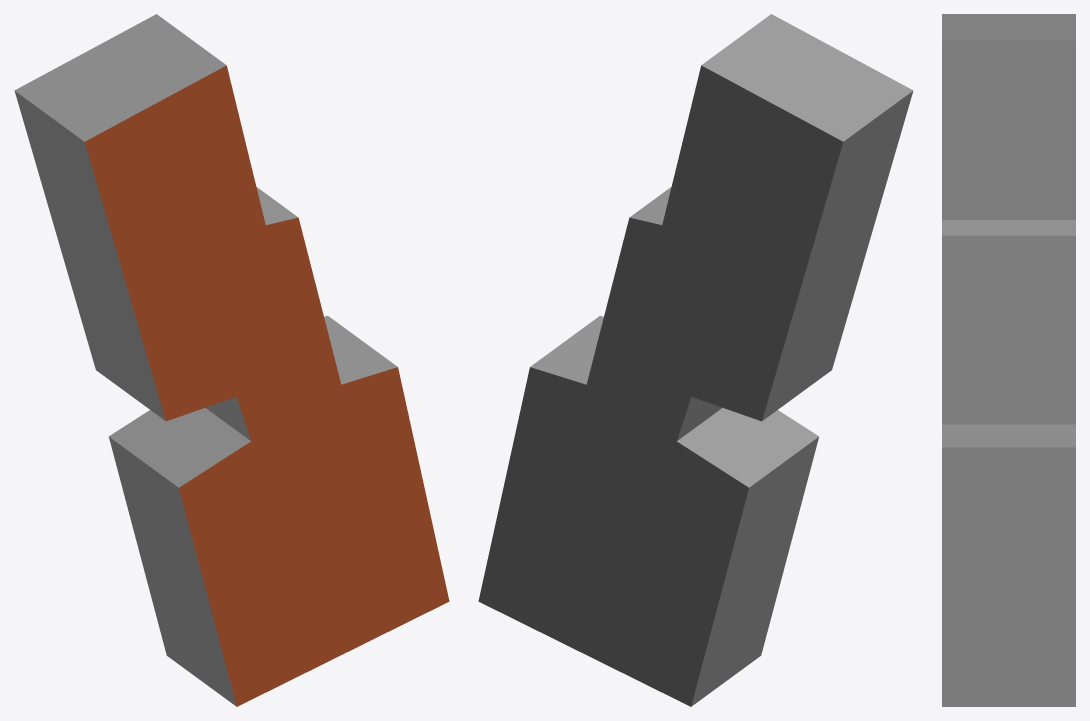
The model's file is construction_0563_assumed_A_Casa_h6m.obj.
The picture shows the model from 3 angles, left to right: view 1: azimuth 30°, elevation 25°; view 2: azimuth 150°, elevation 25°; view 3: azimuth 270°, elevation 25°; orthographic projection. The views are drawn at different scales.
Visible parts, largest first — view 1: construction_0563_assumed_A_Casa; view 2: construction_0563_assumed_A_Casa; view 3: construction_0563_assumed_A_Casa.
Part boxes in pixels (<box>): construction_0563_assumed_A_Casa: <box>14,14,449,706</box>; construction_0563_assumed_A_Casa: <box>478,14,913,706</box>; construction_0563_assumed_A_Casa: <box>942,14,1075,706</box>.
Size of the model in its own units: 18.02 by 30.39 by 6.
